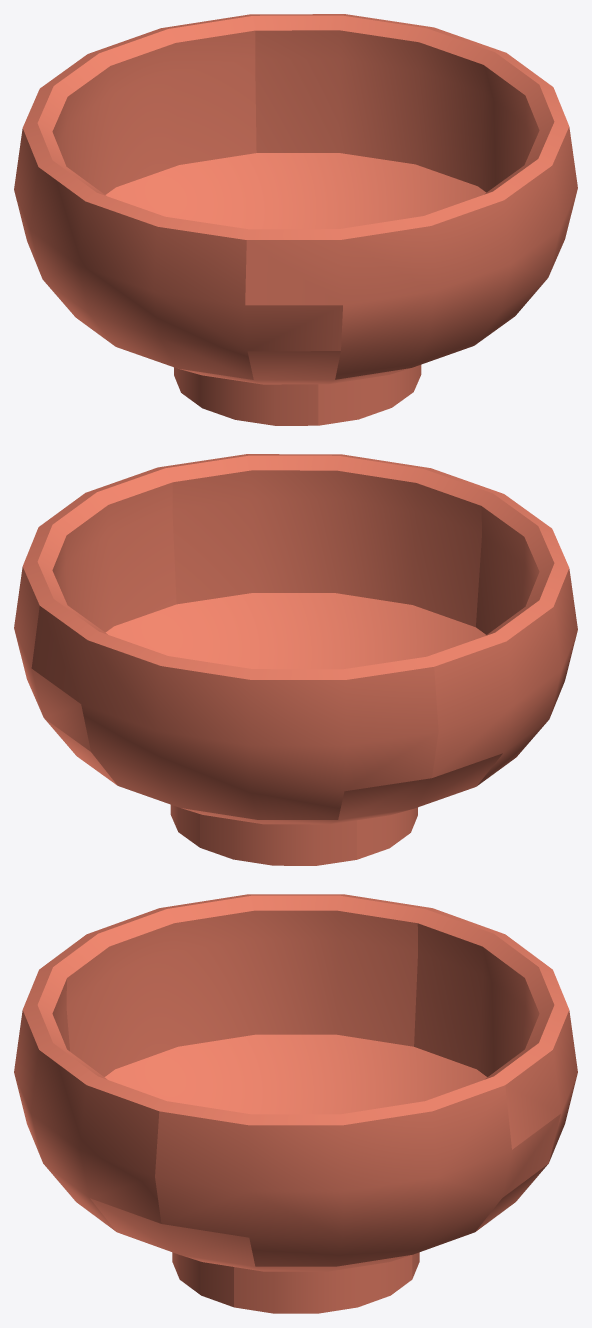
The model's file is bowls_a.glb.
3 renders of one model, top to bottom at view 1: azimuth 30°, elevation 25°; view 2: azimuth 150°, elevation 25°; view 3: azimuth 270°, elevation 25°, orthographic.
Parts seen in each view (by area): view 1: body; view 2: body; view 3: body.
Part boxes in pixels (box(x1,y1,x2,y2)): body: box(14, 14, 577, 425); body: box(14, 454, 577, 865); body: box(14, 894, 577, 1313).
Bounding box in the file's own units: 0.16 × 0.08 × 0.16.
